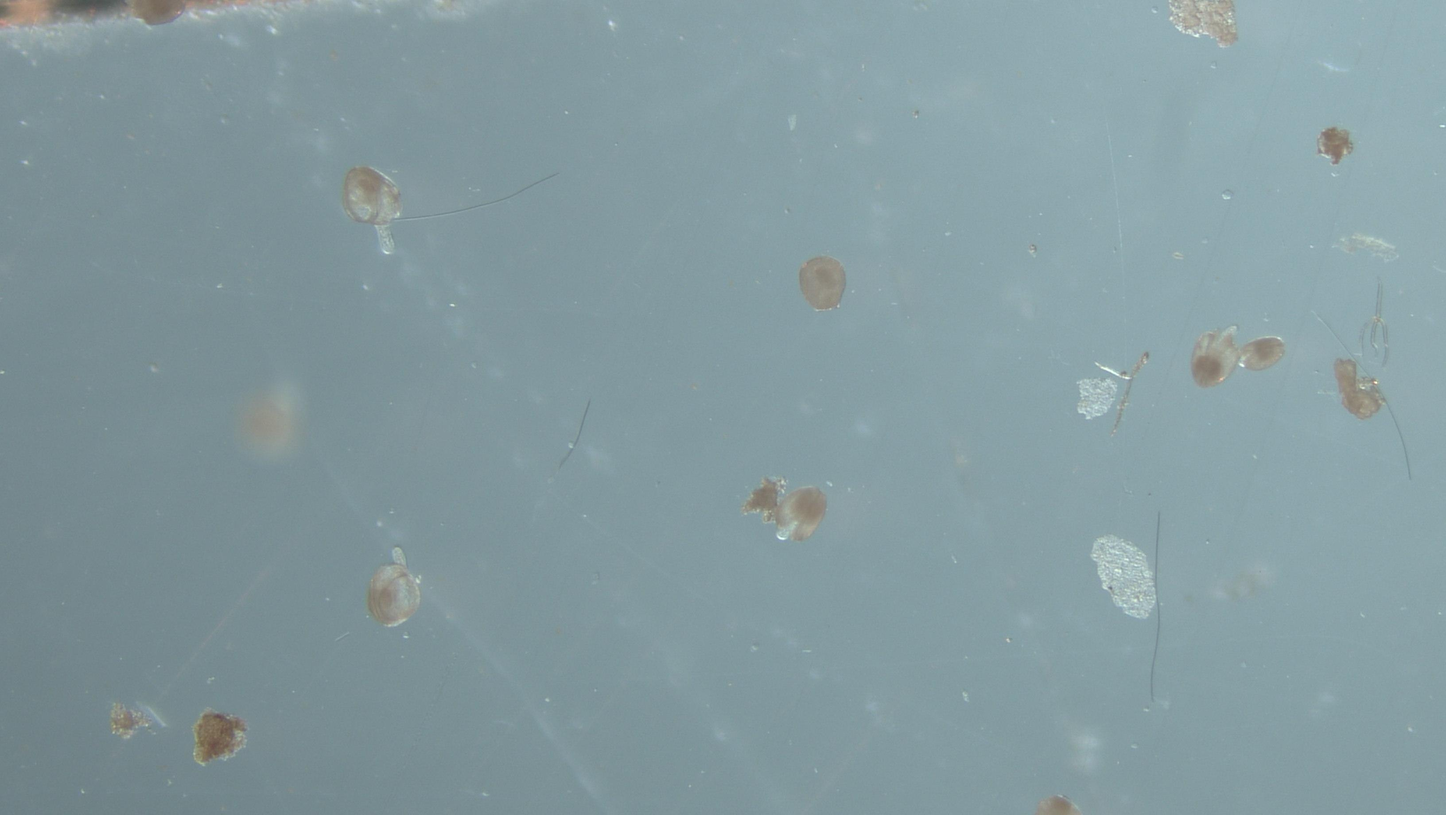live: (342, 167, 402, 255), (342, 167, 401, 255), (367, 547, 421, 627), (342, 167, 402, 226), (343, 167, 401, 225), (1191, 326, 1240, 387), (776, 487, 826, 541), (799, 256, 846, 311), (1240, 337, 1285, 370), (131, 0, 185, 26)
